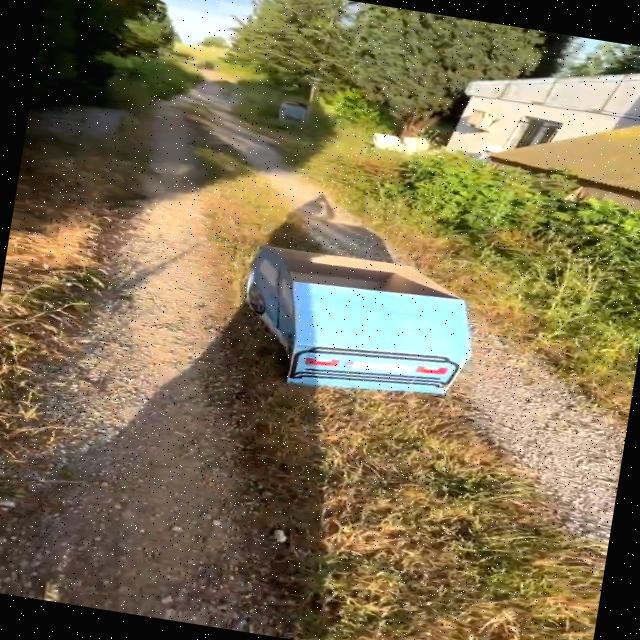blue_car: (125, 179, 521, 457)
